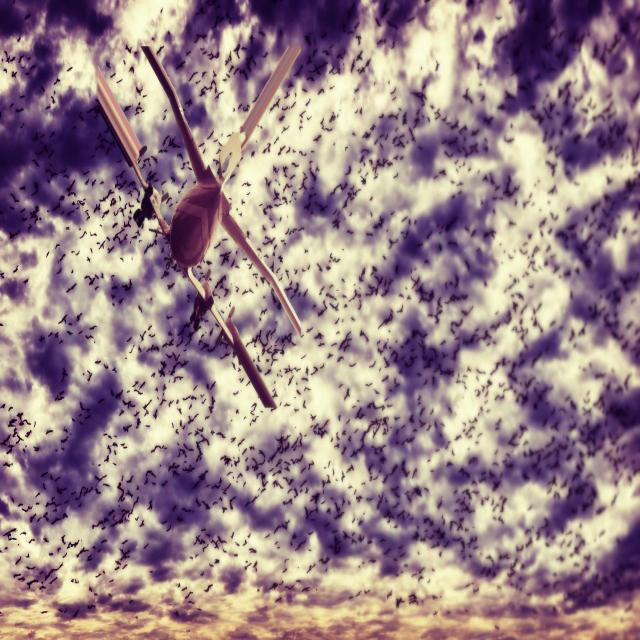airplane: (94, 42, 304, 410)
